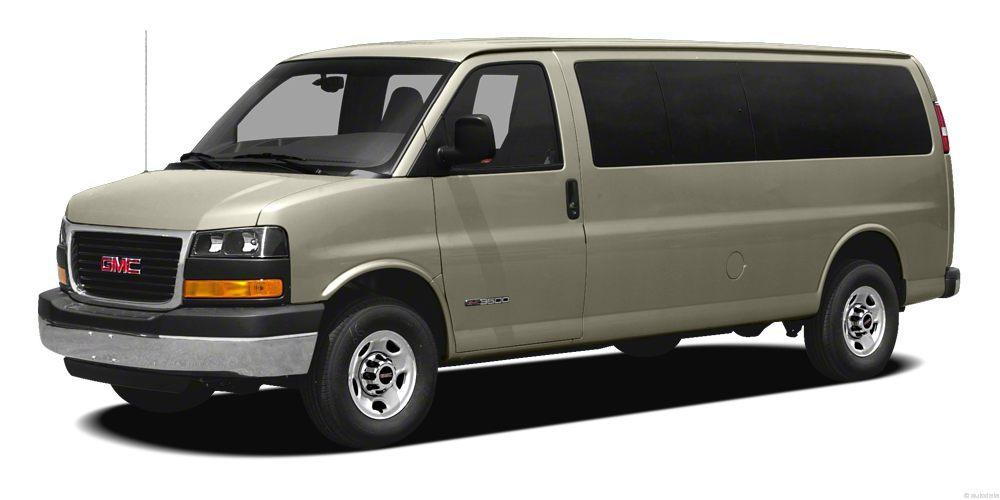car: (14, 28, 998, 454)
